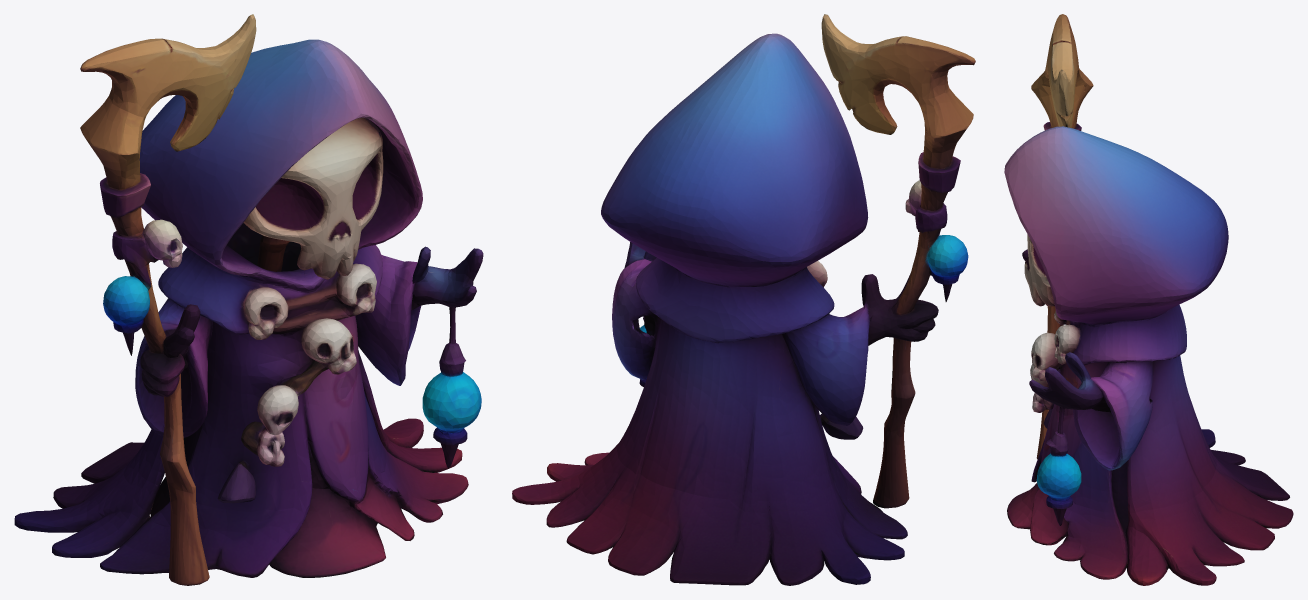
The model's file is cute-skeleton-mage-character-2439.glb.
The picture shows the model from 3 angles, left to right: view 1: azimuth 30°, elevation 25°; view 2: azimuth 150°, elevation 25°; view 3: azimuth 270°, elevation 25°; orthographic projection. The views are drawn at different scales.
Visible parts, largest first — view 1: world; view 2: world; view 3: world.
Part boxes in pixels (left/top/right/bottom): world: left=14, top=14, right=483, bottom=585; world: left=512, top=14, right=975, bottom=585; world: left=1004, top=14, right=1293, bottom=585.
Bounding box in the file's own units: 0.8269 × 0.9956 × 0.6223.
Materials: 1 (1 with a texture image).
